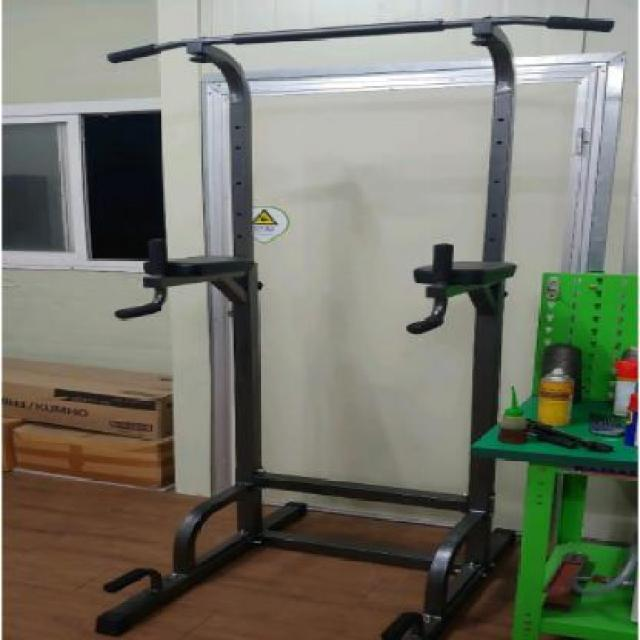chinning dipping: (91, 9, 617, 640)
